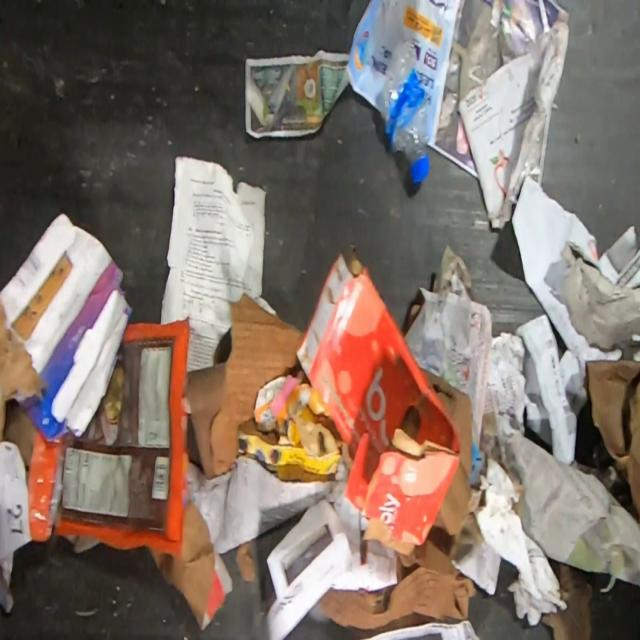cardboard: (295, 243, 462, 567), (236, 369, 353, 483), (559, 238, 640, 361), (540, 557, 593, 640)
rigid_plastic: (379, 38, 432, 183)
soft_plastic: (28, 316, 191, 560), (0, 211, 134, 444)
